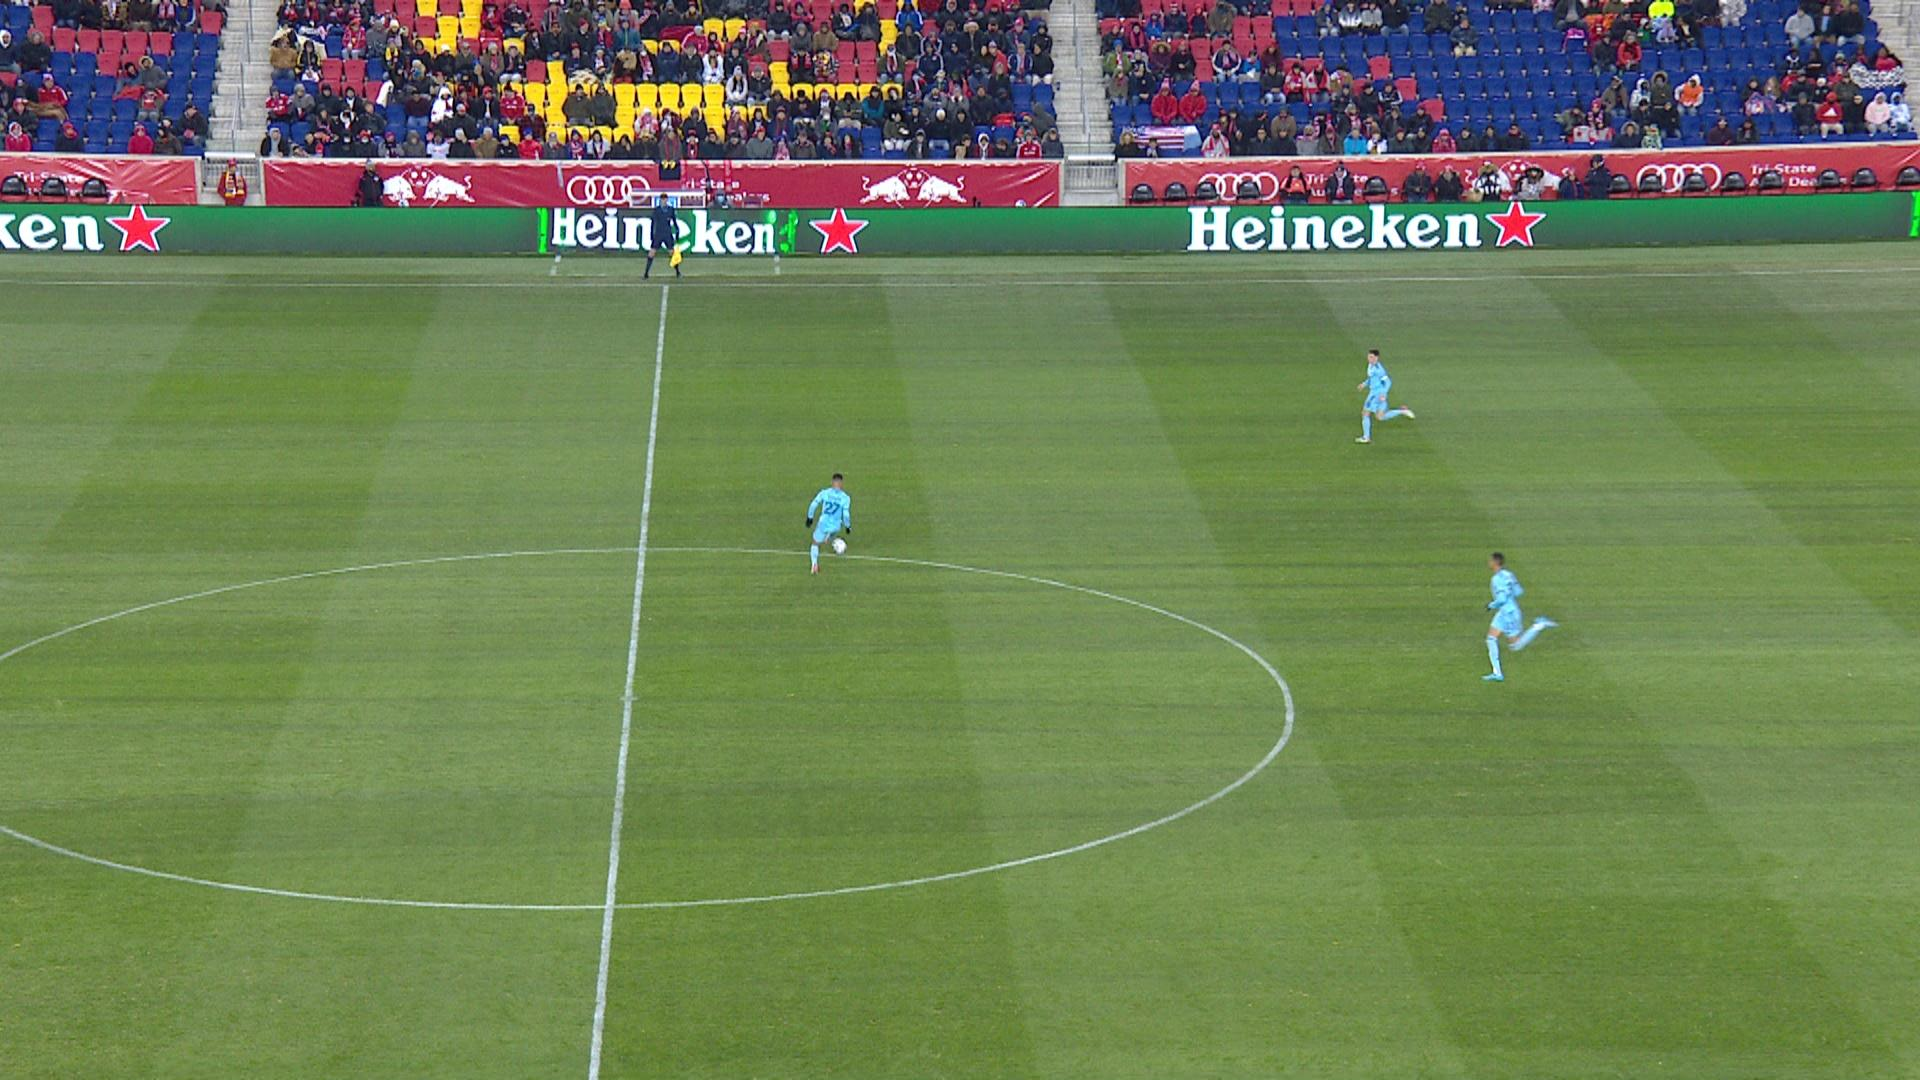football: (833, 538, 848, 554)
